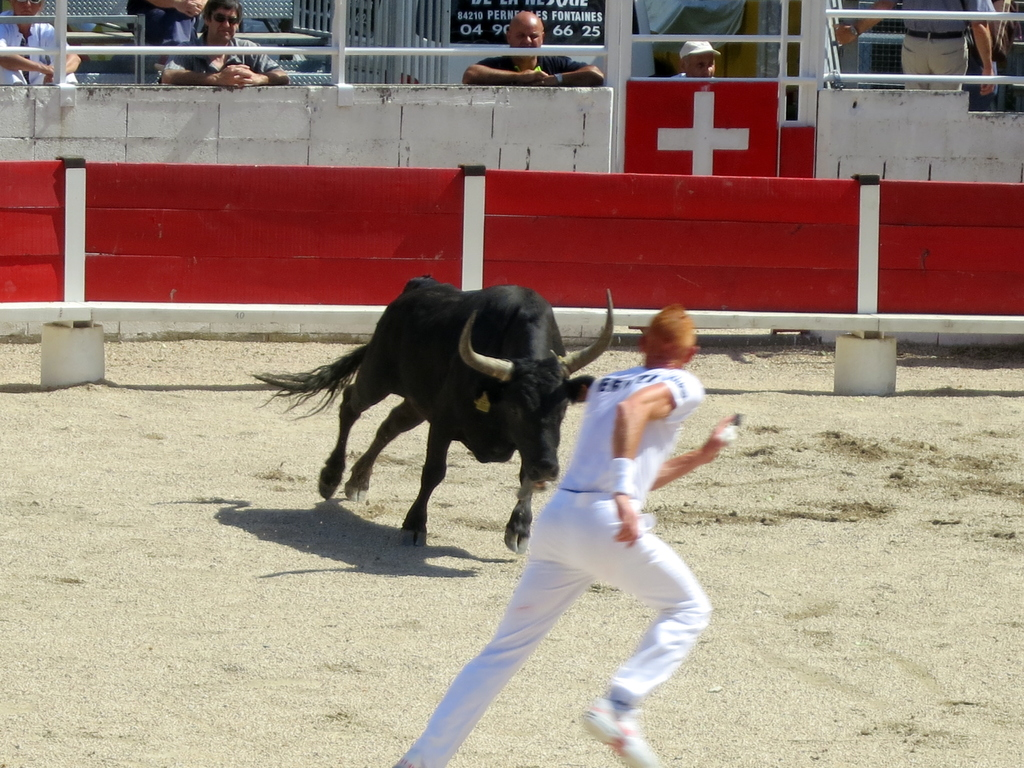Person: (123, 0, 208, 72), (674, 39, 721, 78)
